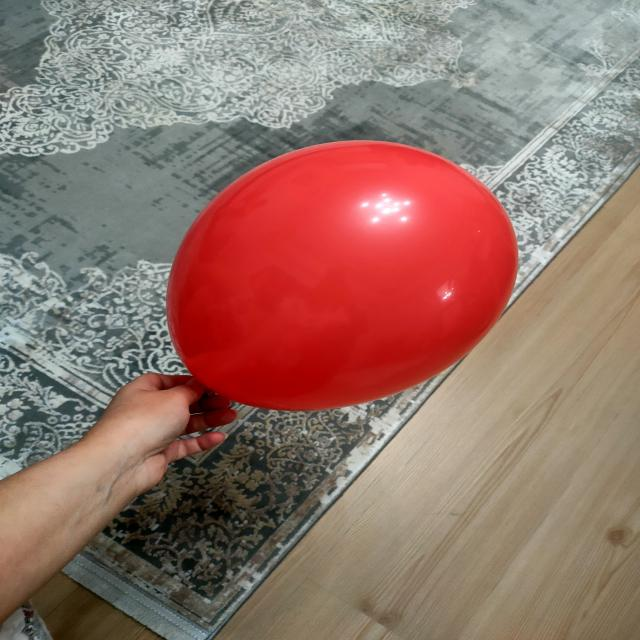red: (168, 142, 517, 411)
